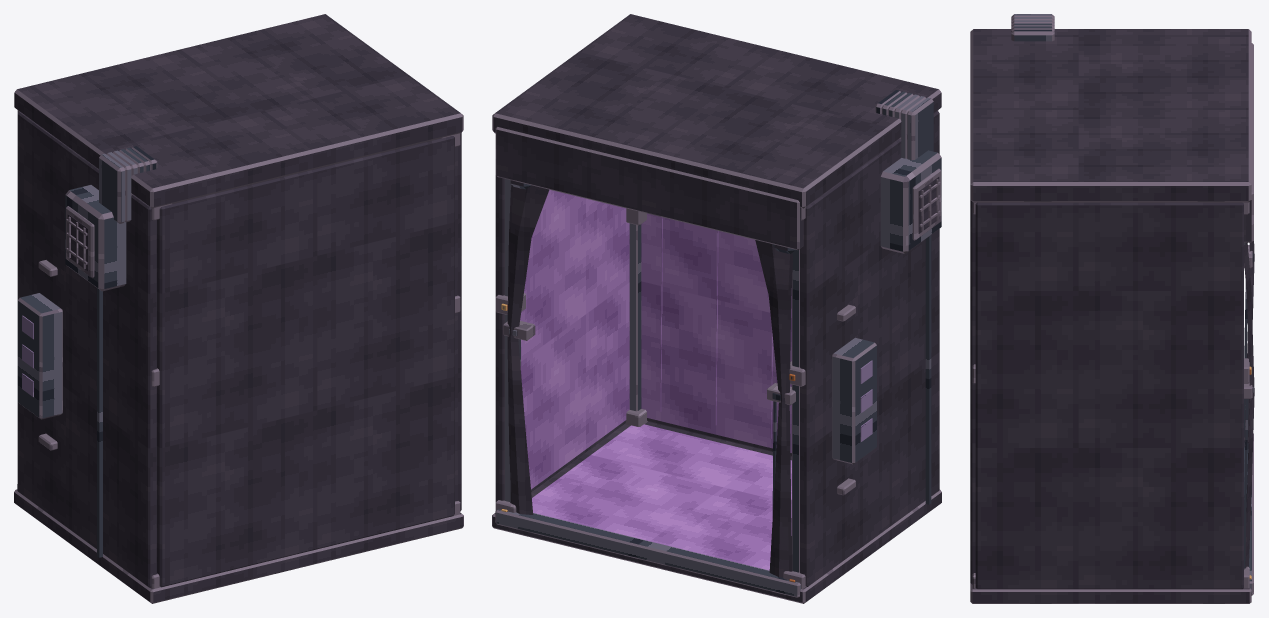
Rendered from placed_grow_tent_4.obj.
3 views of the same model, side by side, from view 1: azimuth 30°, elevation 25°; view 2: azimuth 150°, elevation 25°; view 3: azimuth 270°, elevation 25° (orthographic).
Parts seen in each view (by area): view 1: model; view 2: model; view 3: model.
Boxes of the visible parts, x1,y1,x2,y2 form: model: (14,14,463,603); model: (492,14,941,603); model: (970,14,1254,603).
Size of the model in its own units: 2.34 by 2.74 by 1.64.
